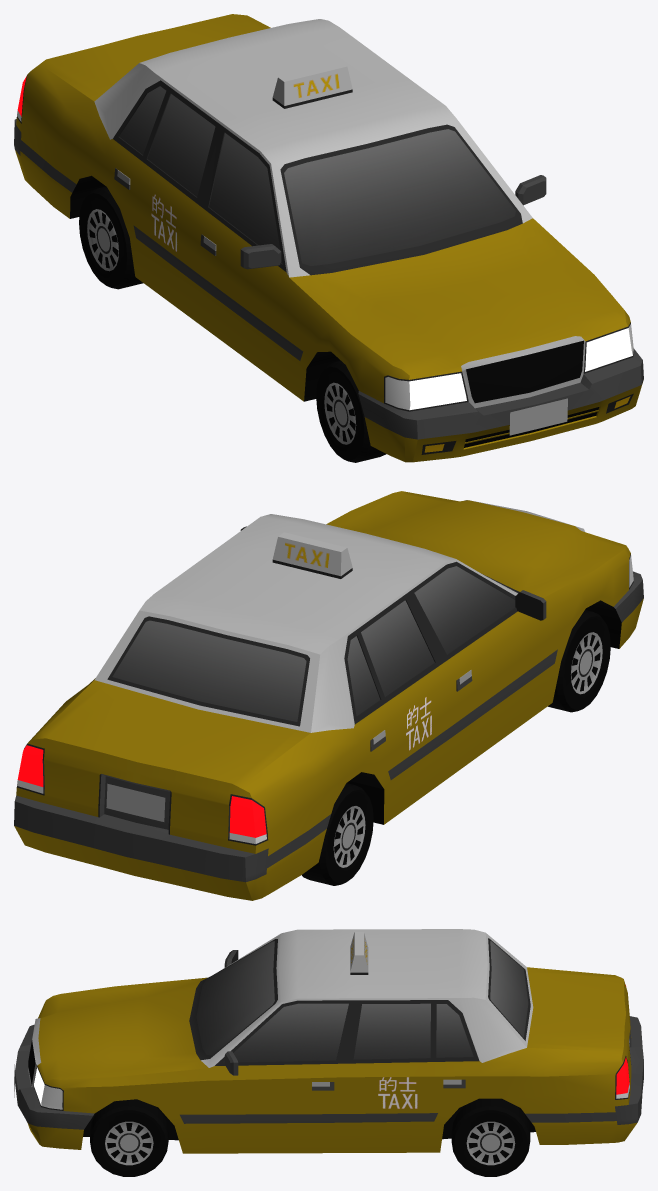
File: taxi.glb
3 renders of one model, top to bottom at view 1: azimuth 30°, elevation 25°; view 2: azimuth 150°, elevation 25°; view 3: azimuth 270°, elevation 25°, orthographic. The views are drawn at different scales.
Parts seen in each view (by area): view 1: Cube, Cylinder.003, Cylinder.002; view 2: Cube, Cylinder.003, Cylinder.002; view 3: Cube, Cylinder.001, Cylinder.
Part boxes in pixels (x1,y1,x2,y2): Cube: [14, 14, 643, 462]; Cylinder.003: [79, 186, 143, 289]; Cylinder.002: [316, 360, 386, 462]; Cube: [14, 491, 643, 900]; Cylinder.003: [302, 783, 373, 885]; Cylinder.002: [548, 610, 610, 712]; Cube: [14, 929, 643, 1153]; Cylinder.001: [451, 1098, 530, 1176]; Cylinder: [90, 1099, 168, 1176].
Bounding box in the file's own units: 1.78 × 1.39 × 4.2.
Materials: 3 (1 with a texture image).
